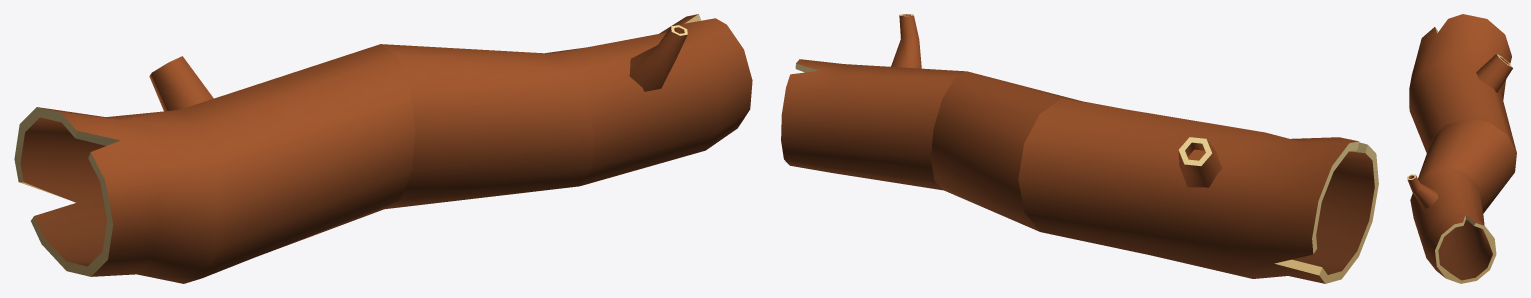
Rendered from Log_1.fbx.
The picture shows the model from 3 angles, left to right: view 1: azimuth 30°, elevation 25°; view 2: azimuth 150°, elevation 25°; view 3: azimuth 270°, elevation 25°; orthographic projection. The views are drawn at different scales.
Parts seen in each view (by area): view 1: Log_1; view 2: Log_1; view 3: Log_1.
Part boxes in pixels (<box>): Log_1: <box>14,14,752,283</box>; Log_1: <box>781,14,1378,283</box>; Log_1: <box>1407,14,1516,283</box>.
Size of the model in its own units: 0.956 by 0.9555 by 3.64.
